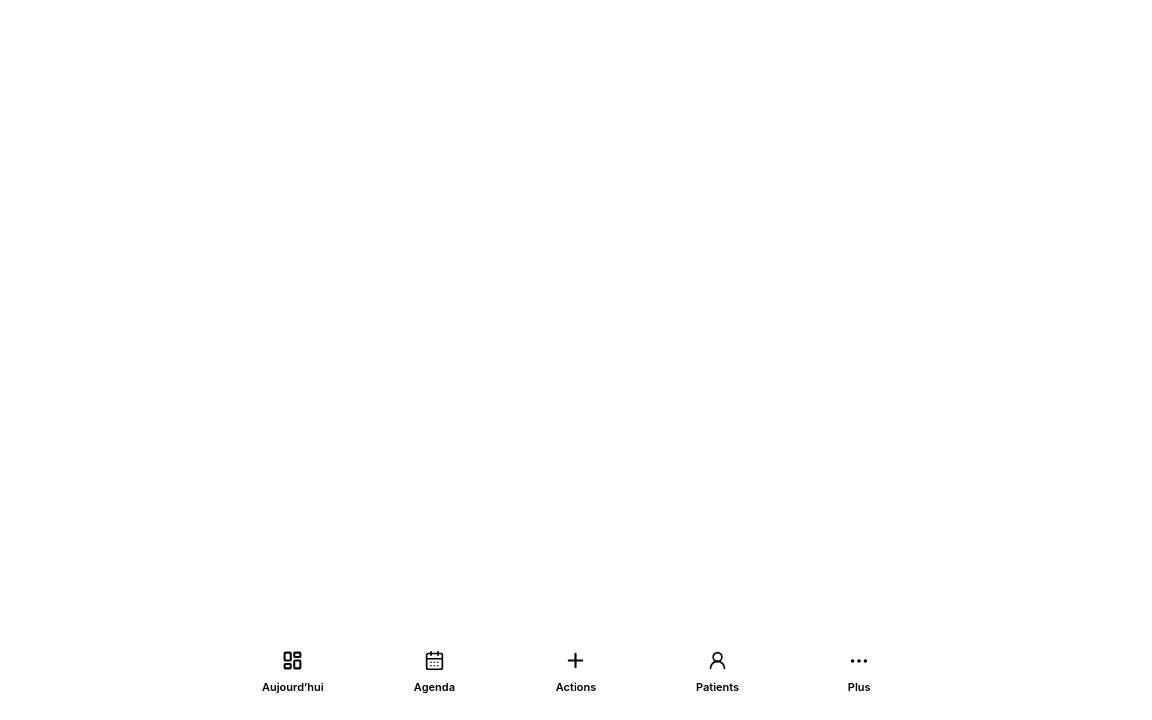
it: Digital Crown Pocket canonical navigation › fails closed when role is not loaded yet
Click the button "Plus" at (859, 670), box [788,643,930,697]
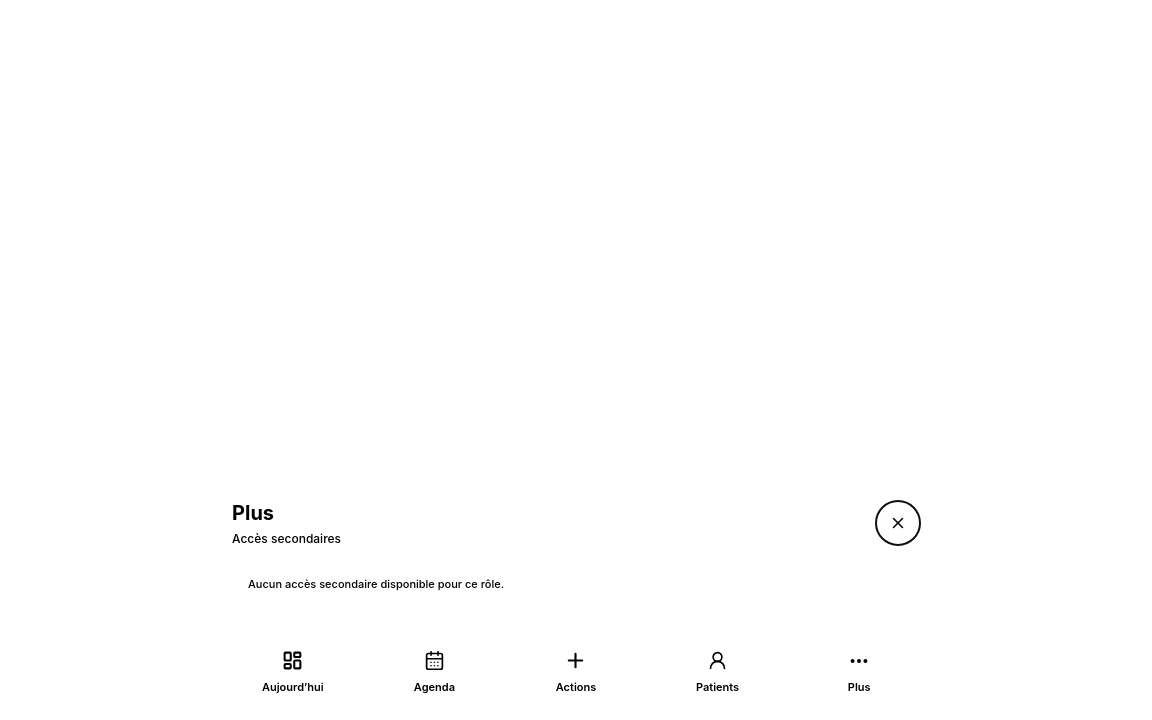
Check: the text "Aucun accès secondaire disponible pour ce rôle." is shown, box [248,576,504,590]
